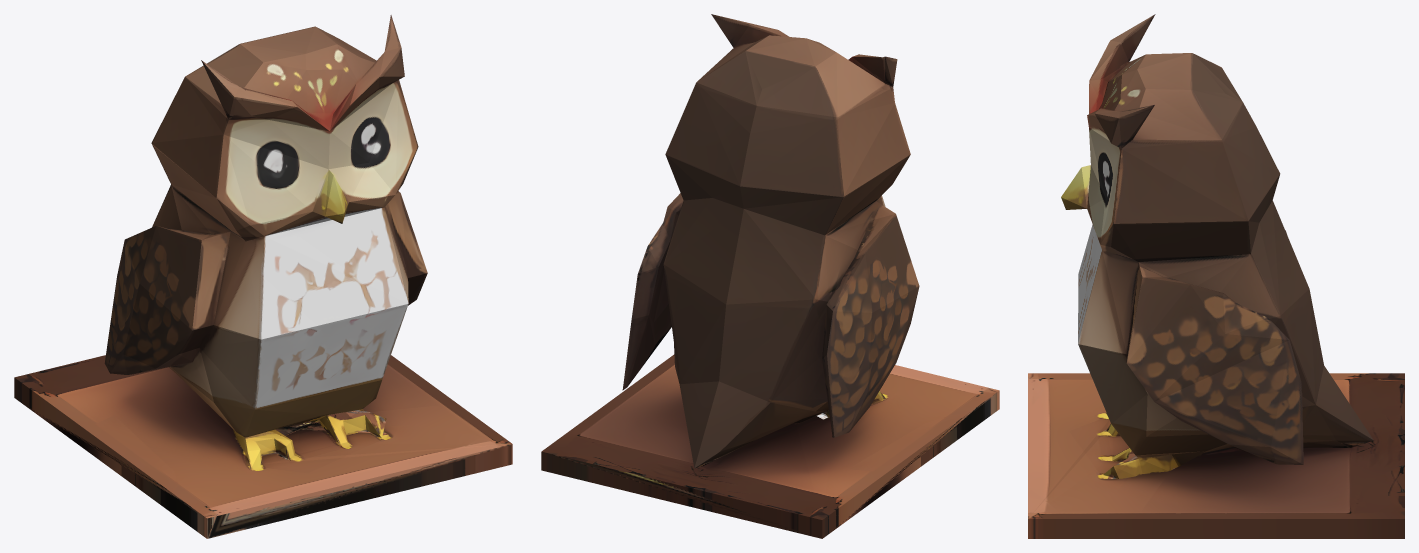
3 views of the same model, side by side, from view 1: azimuth 30°, elevation 25°; view 2: azimuth 150°, elevation 25°; view 3: azimuth 270°, elevation 25° (orthographic). The views are drawn at different scales.
Visible parts, largest first — view 1: Figure; view 2: Figure; view 3: Figure.
Part boxes in pixels (x1=…): Figure: x1=14, y1=15, x2=512, y2=538; Figure: x1=541, y1=14, x2=999, y2=538; Figure: x1=1028, y1=14, x2=1404, y2=538.
Bounding box in the file's own units: 0.3679 × 0.4796 × 0.4021.
1 material, 1 textured.
